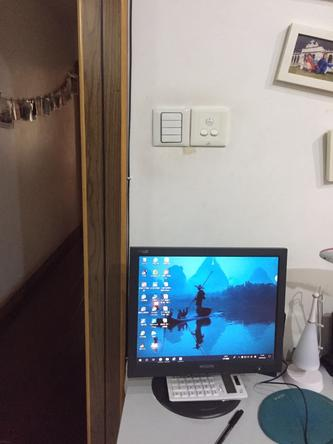switch: (160, 134, 182, 142), (161, 113, 182, 120), (161, 121, 183, 127), (161, 128, 182, 134), (210, 128, 221, 138), (205, 117, 217, 126), (199, 129, 208, 136)
